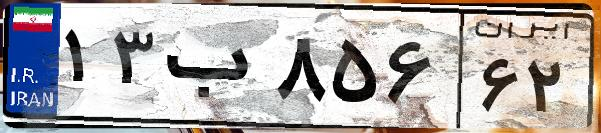1: (57, 26, 110, 100)
2: (525, 38, 570, 115)
3: (110, 28, 158, 98)
5: (330, 28, 385, 110)
6: (385, 28, 445, 110), (475, 38, 525, 113)
8: (270, 28, 330, 110)
ب: (158, 20, 270, 120)
